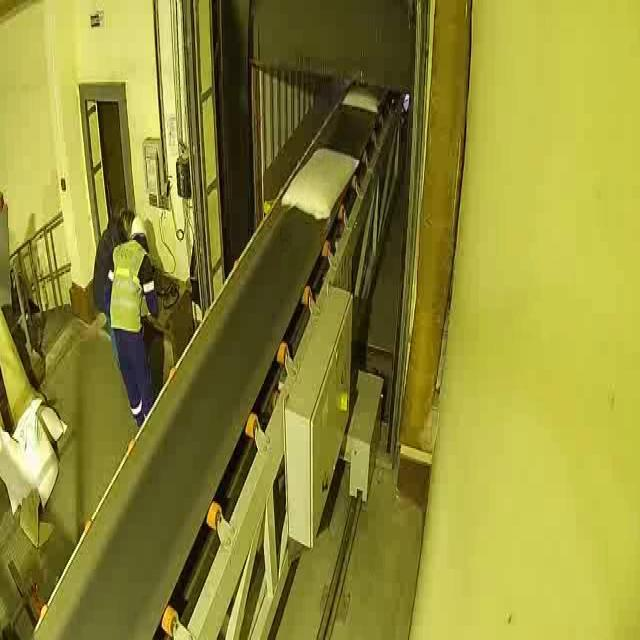bag: (280, 140, 360, 222), (344, 86, 393, 114)
